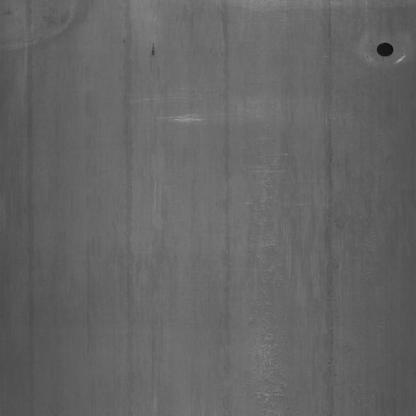oil_spot: (147, 38, 156, 58)
punching_hole: (374, 34, 397, 62)
